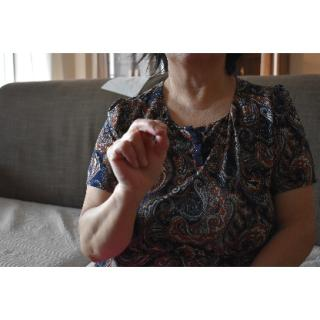QAAF: (103, 112, 178, 195)
